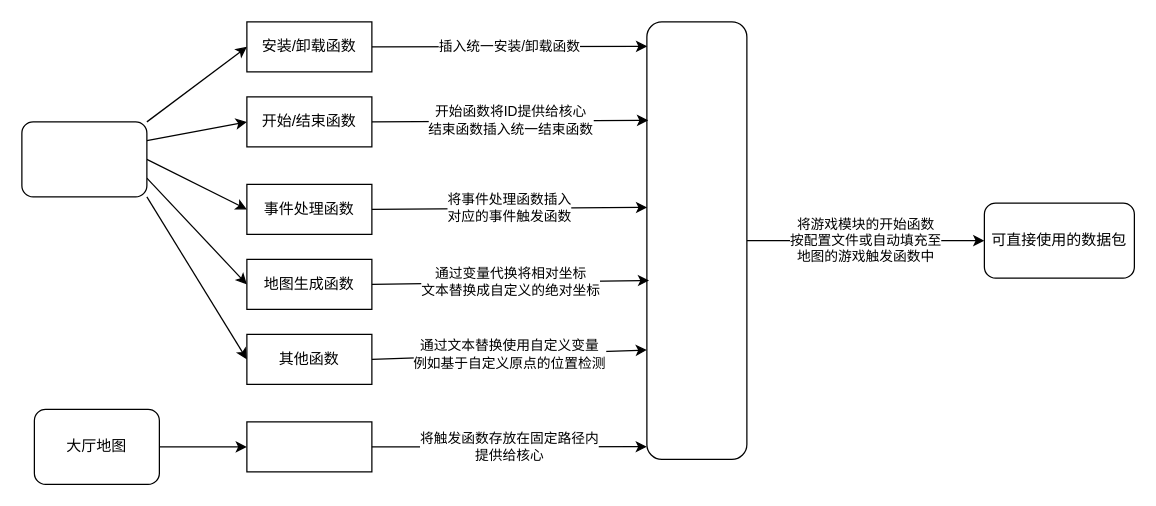
Some shapes in this 1156 by 506 pixel diagram are drawn without their labels. The shapes that lost their labels are listed below. From the top down, each one's centre as x and y in pixels, then its label:
the point at 84,159: 游戏模块
the point at 696,240: 核心
the point at 309,446: 游戏触发函数
